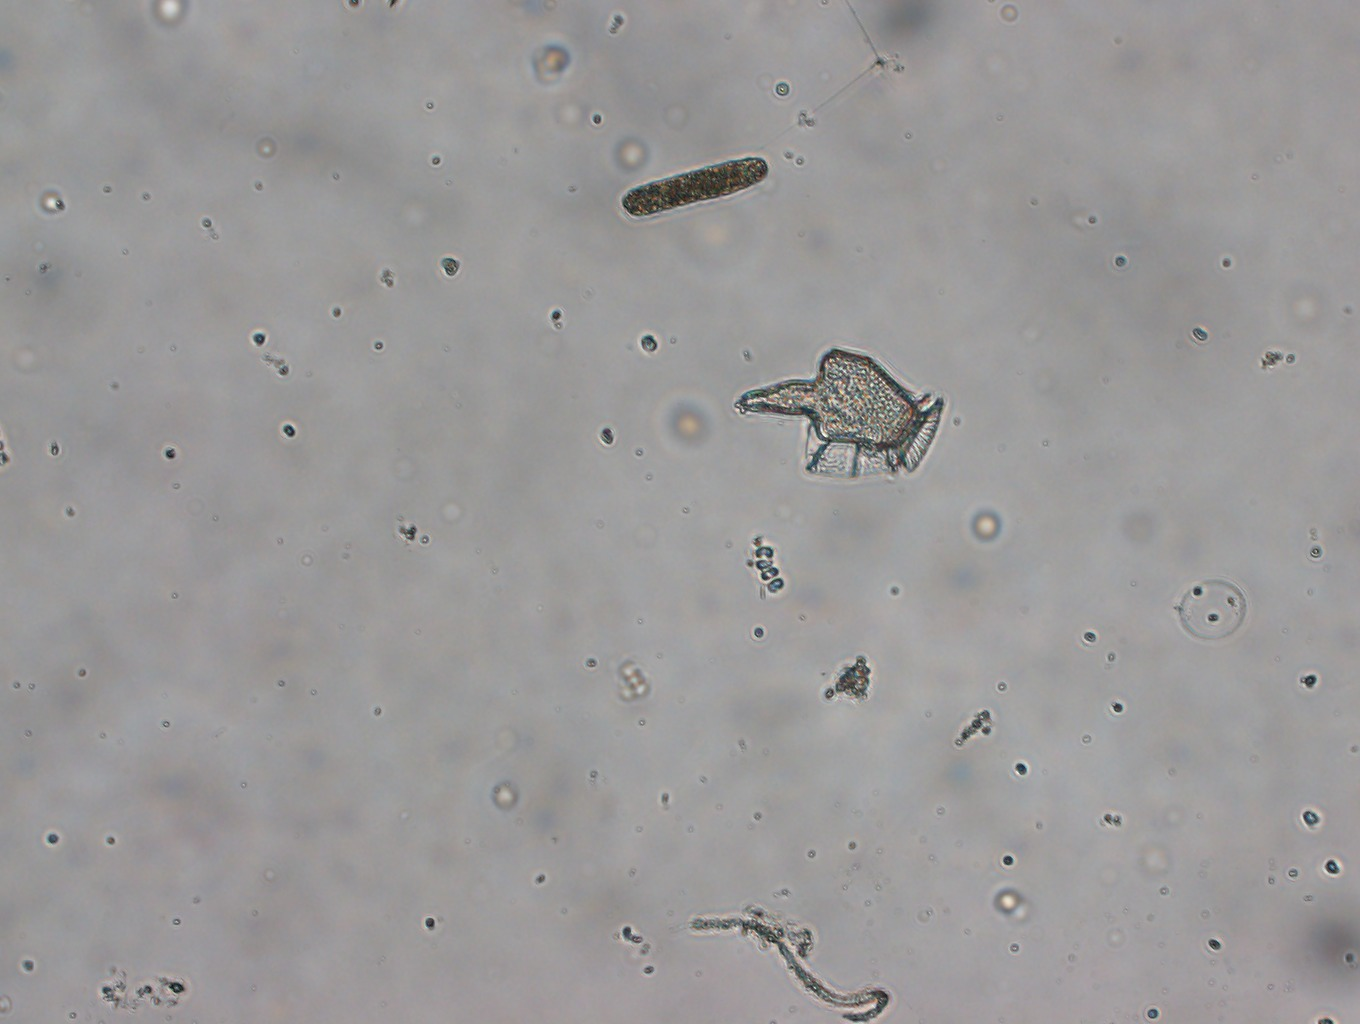dinophysis caudata: (734, 345, 945, 484)
